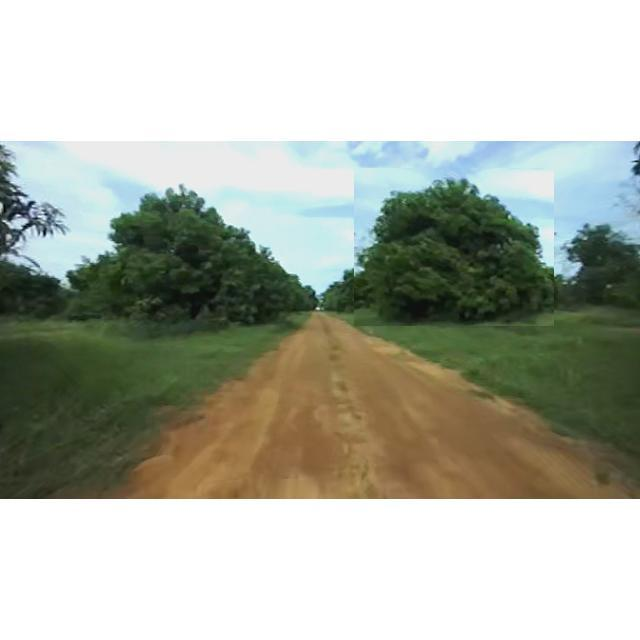tree: (354, 168, 554, 326), (68, 175, 250, 338), (558, 207, 630, 309), (216, 240, 300, 326), (336, 263, 382, 317), (321, 278, 347, 312), (300, 282, 320, 312)
